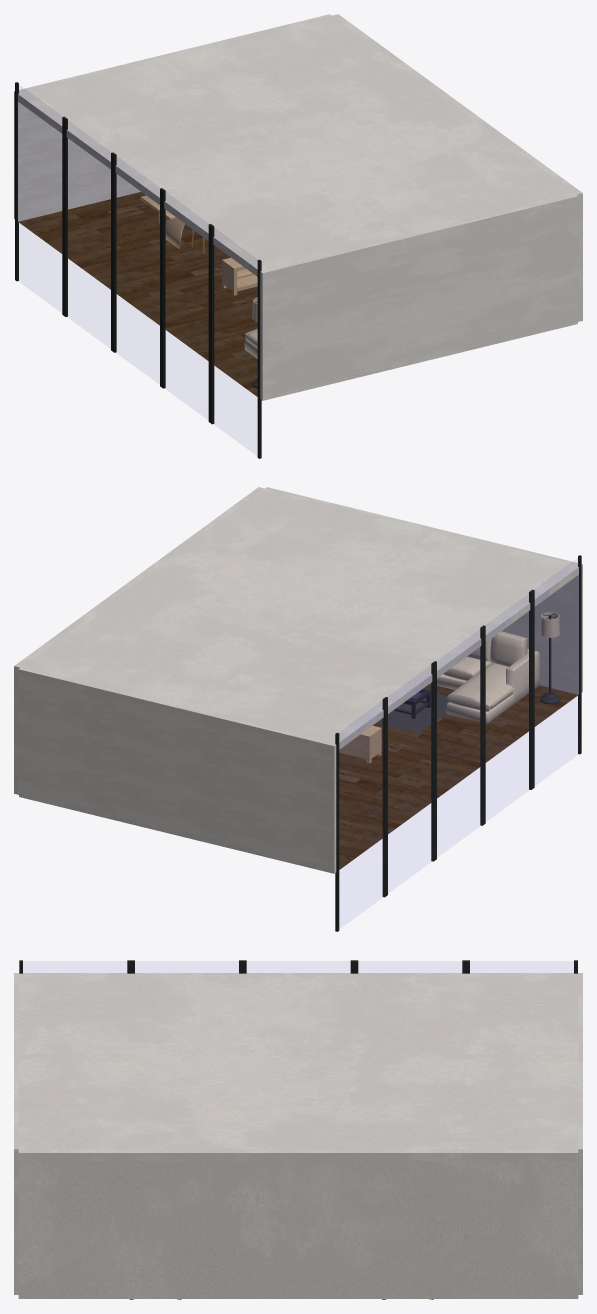
File: room.gltf
3 views of the same model, one above another, from view 1: azimuth 30°, elevation 25°; view 2: azimuth 150°, elevation 25°; view 3: azimuth 270°, elevation 25° (orthographic). The views are drawn at different scales.
Visible parts, largest first — view 1: Wall, Floor, Window, cabinetTelevision(Clone), ARC Dining Table; view 2: Wall, Floor, Window, Couch, Plane, cabinetTelevision(Clone), Light_Stand2; view 3: Wall, Window.
Boxes of the visible parts, x1,y1,x2,y2 form: Wall: [14, 14, 582, 400]; Floor: [18, 192, 257, 396]; Window: [15, 82, 261, 458]; cabinetTelevision(Clone): [222, 257, 257, 295]; ARC Dining Table: [140, 195, 184, 249]; Wall: [14, 487, 582, 873]; Floor: [339, 684, 578, 869]; Window: [335, 555, 581, 931]; Couch: [430, 631, 539, 723]; Plane: [376, 692, 449, 733]; cabinetTelevision(Clone): [339, 725, 381, 763]; Light_Stand2: [540, 612, 560, 704]; Wall: [14, 973, 582, 1298]; Window: [19, 960, 577, 973].
Bounding box in the file's own units: 8.19 × 4.78 × 10.91.
Materials: 22 (17 with a texture image).
